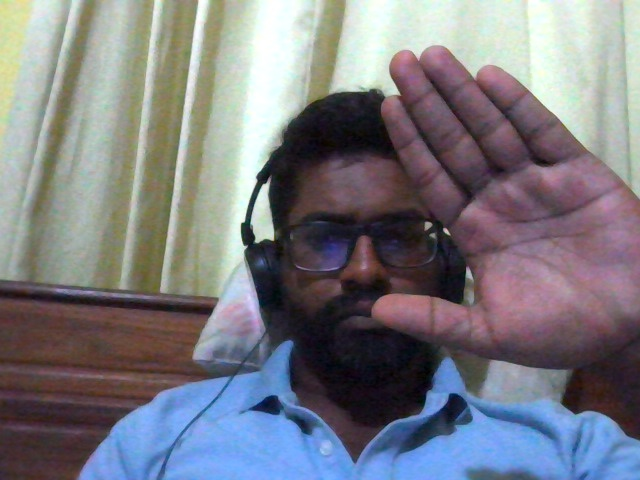Hello: (353, 40, 640, 402)
